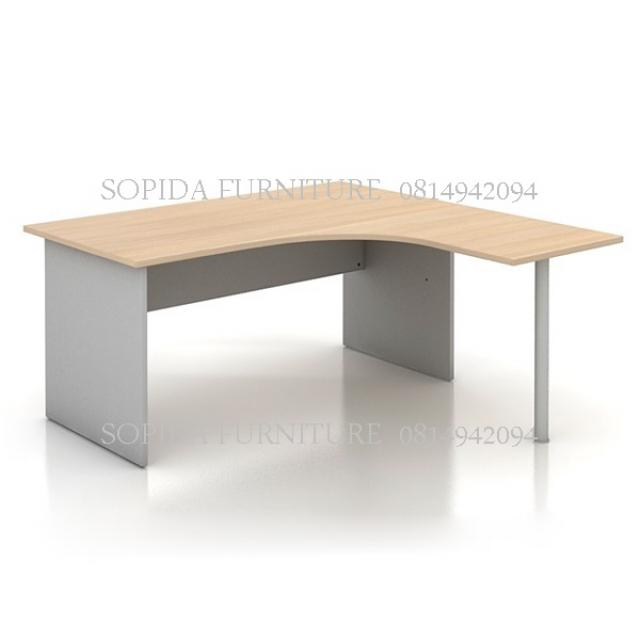table: (22, 161, 628, 544)
